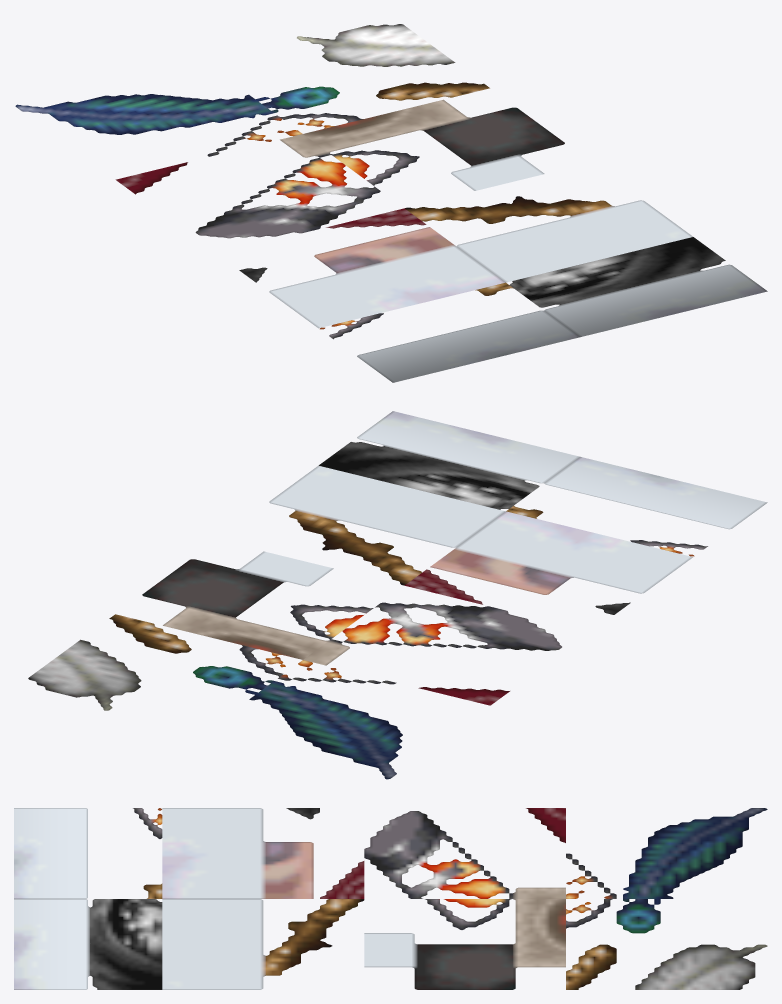
3 renders of one model, top to bottom at view 1: azimuth 30°, elevation 25°; view 2: azimuth 150°, elevation 25°; view 3: azimuth 270°, elevation 25°, orthographic.
Visible parts, largest first — view 1: T1L1M002_28; view 2: T1L1M002_28; view 3: T1L1M002_28.
Part boxes in pixels (x1,y1,x2,y2): T1L1M002_28: (15, 24, 767, 382); T1L1M002_28: (28, 411, 767, 779); T1L1M002_28: (14, 808, 767, 989).
Size of the model in its own units: 1.6 by 0.000977 by 2.8.
